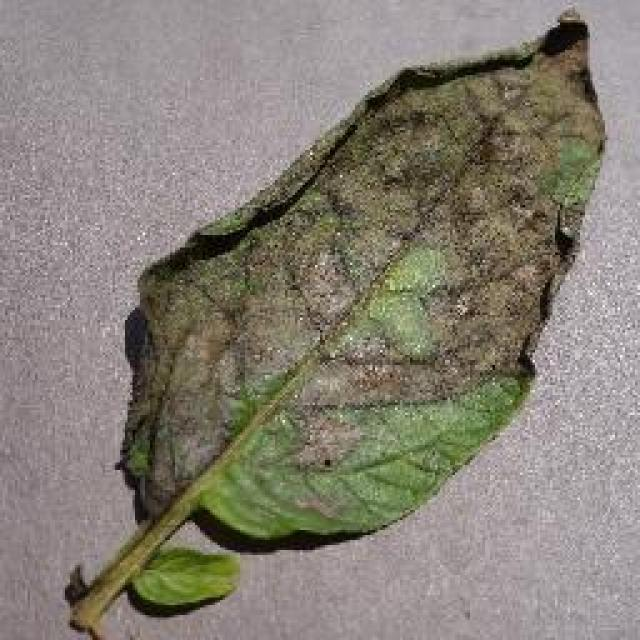late_blight: (112, 5, 610, 555)
